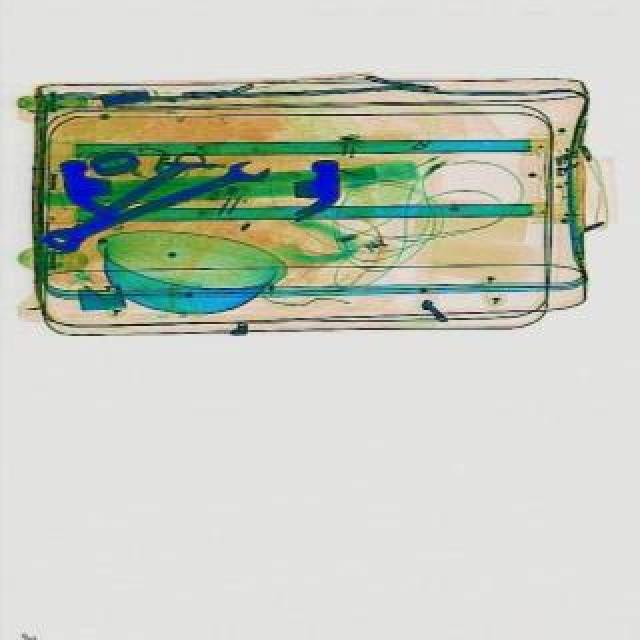scissors: (42, 154, 276, 262), (42, 148, 210, 264)
